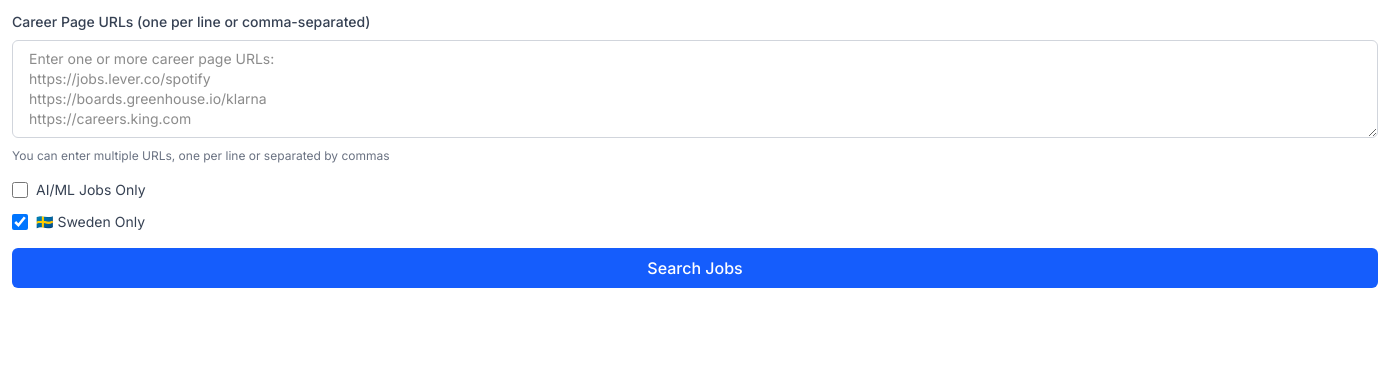
Test: JobSearchForm › should display error message on API failure
The width and height of the screenshot is (1390, 367).
Replace the text in the text box with placeholder "Career Page URL" with "https://invalid-url": (695, 89) top-left (12, 40), bottom-right (1378, 138)
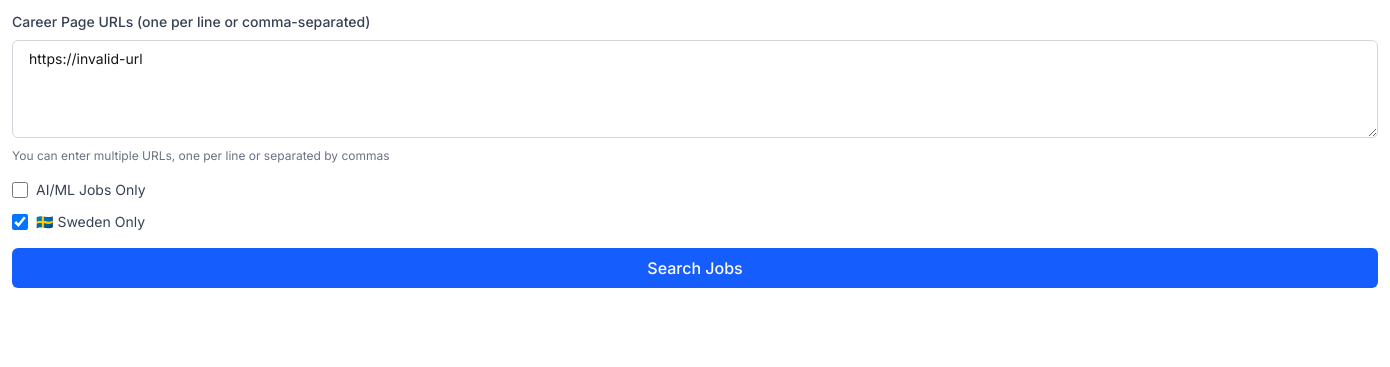
Click the button "Search Jobs": (695, 268) top-left (12, 248), bottom-right (1378, 288)
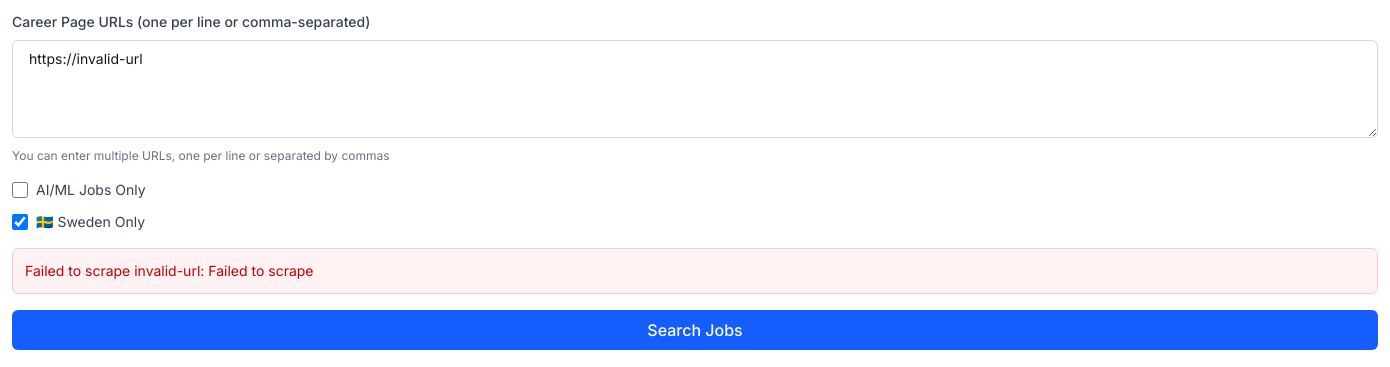
Check: the text "Failed to scrape invalid-url: Failed to scrape" is shown, box top-left (12, 248), bottom-right (1378, 294)
